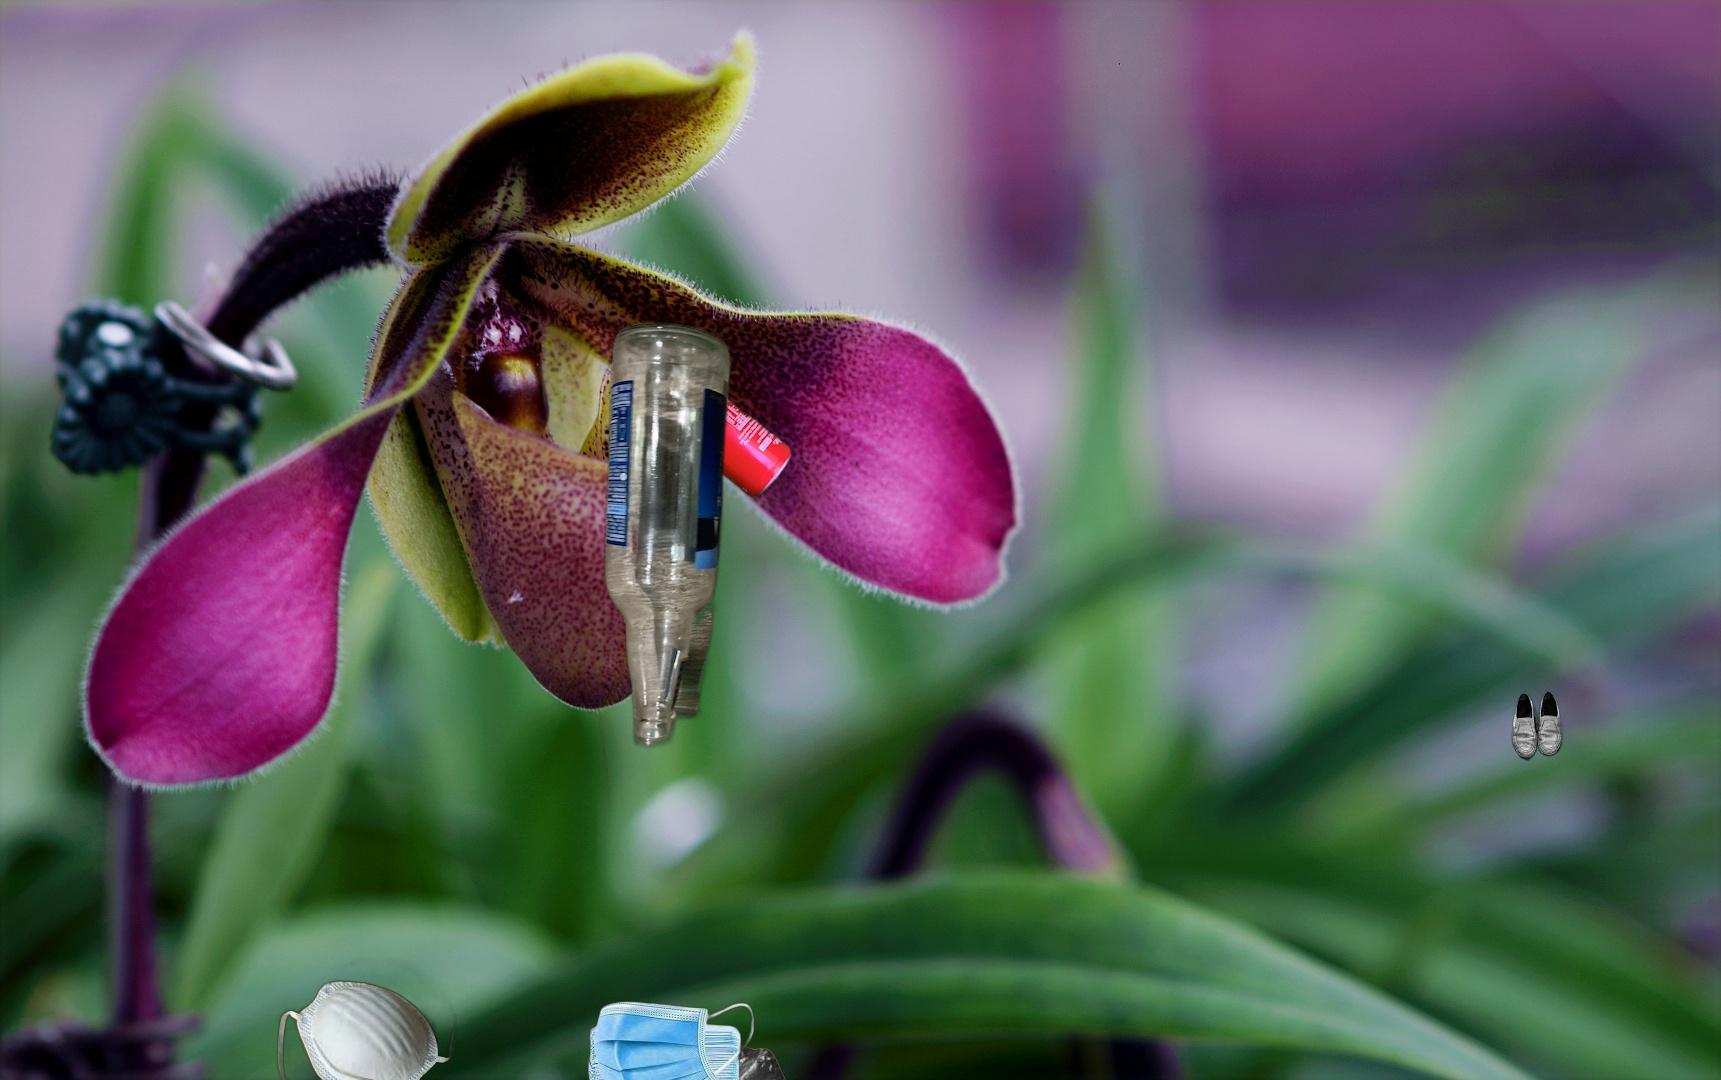glass: (589, 317, 735, 826)
metal-cans: (633, 352, 796, 504)
plastic-bag: (534, 1036, 801, 1080)
shoes: (1509, 689, 1565, 763)
trash: (273, 951, 460, 1080), (585, 988, 757, 1080)
